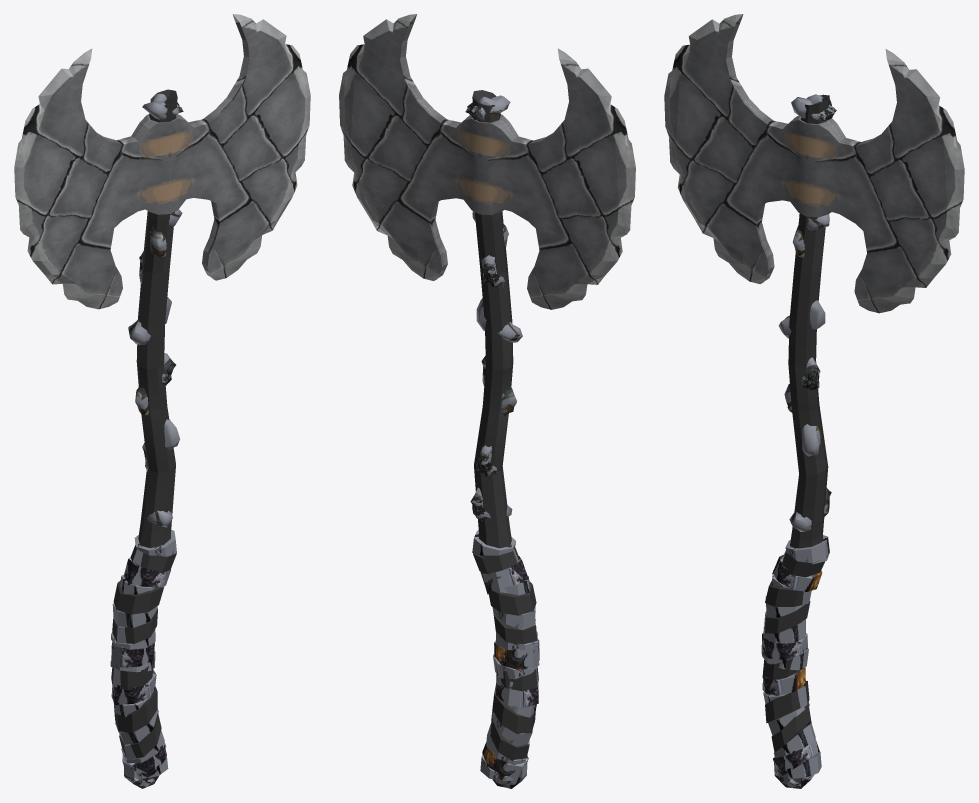
File: Equipment_Axe.fbx
3 renders of one model, left to right at view 1: azimuth 30°, elevation 25°; view 2: azimuth 150°, elevation 25°; view 3: azimuth 330°, elevation 25°, orthographic.
Visible parts, largest first — view 1: Boss_Equipment_Axe_Axe; view 2: Boss_Equipment_Axe_Axe; view 3: Boss_Equipment_Axe_Axe, Stone_04.
Boxes of the visible parts, x1=… form: Boss_Equipment_Axe_Axe: x1=14, y1=14, x2=310, y2=788; Boss_Equipment_Axe_Axe: x1=339, y1=14, x2=635, y2=788; Boss_Equipment_Axe_Axe: x1=664, y1=14, x2=964, y2=788; Stone_04: x1=802, y1=424, x2=820, y2=456.
Size of the model in its own units: 3.27 by 7.89 by 0.4814.
1 material, 1 textured.
